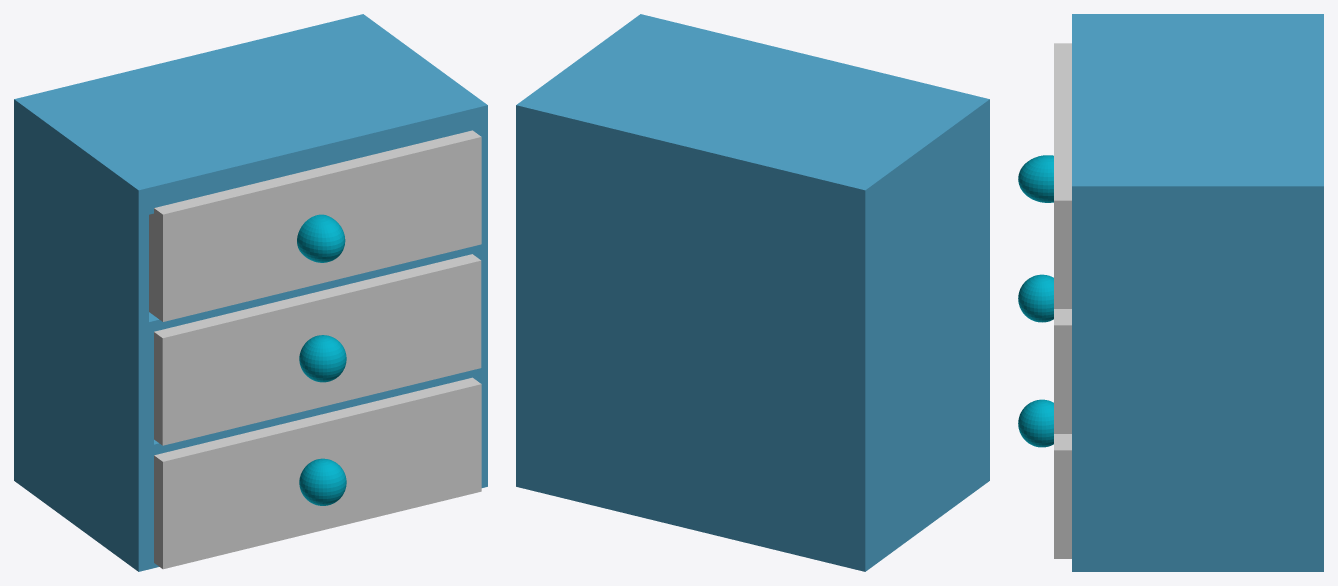
Rendered from PRO-149.glb.
3 renders of one model, left to right at view 1: azimuth 30°, elevation 25°; view 2: azimuth 150°, elevation 25°; view 3: azimuth 270°, elevation 25°, orthographic.
Parts seen in each view (by area): view 1: Mesh_Mesh_head_geo.001_lambert2SG.001; view 2: Mesh_Mesh_head_geo.001_lambert2SG.001; view 3: Mesh_Mesh_head_geo.001_lambert2SG.001.
Boxes of the visible parts, <box> form: Mesh_Mesh_head_geo.001_lambert2SG.001: <box>14,14,487,571</box>; Mesh_Mesh_head_geo.001_lambert2SG.001: <box>516,14,989,571</box>; Mesh_Mesh_head_geo.001_lambert2SG.001: <box>1018,14,1323,571</box>.
Bounding box in the file's own units: 68 × 71 × 51.
